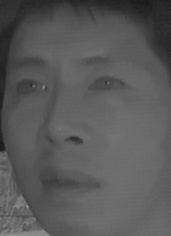eye: (85, 74, 131, 99), (10, 75, 50, 99)
mouth: (37, 164, 101, 206)
